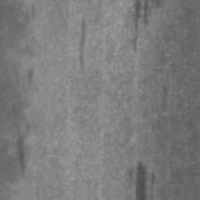inclusion: (10, 104, 34, 186), (67, 13, 95, 78), (126, 0, 153, 58), (133, 157, 157, 193)
